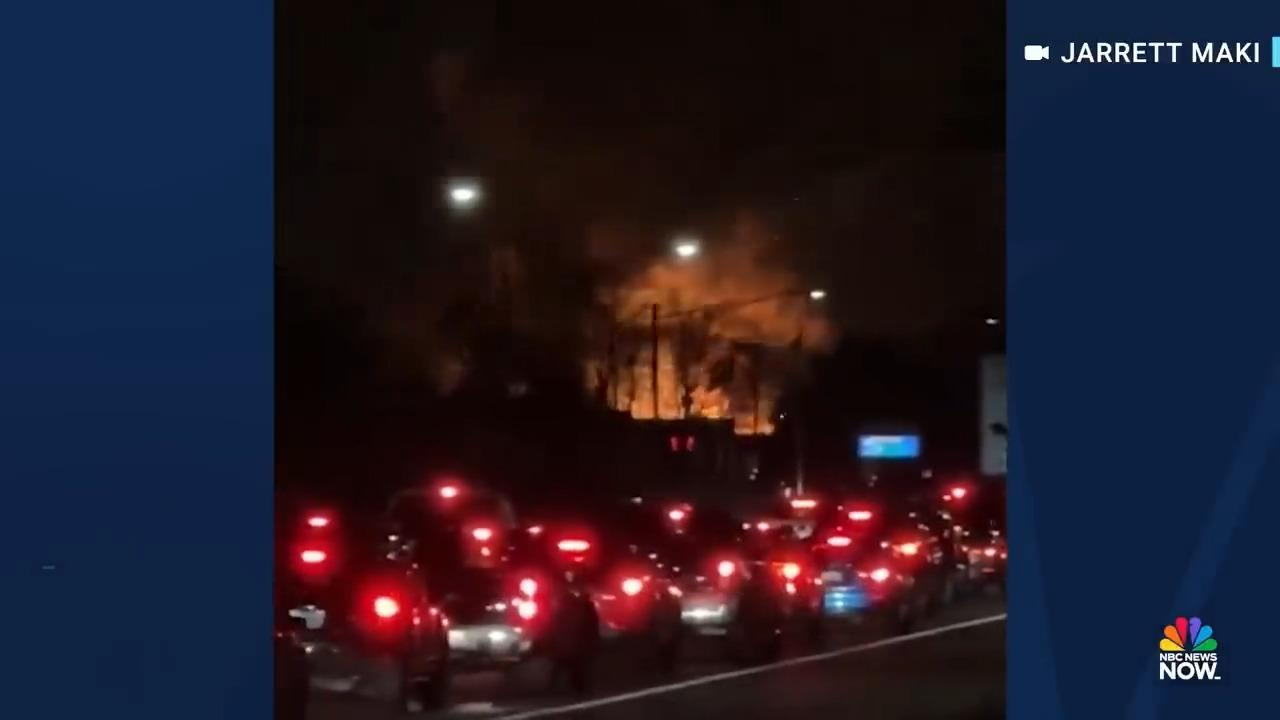fire: (619, 359, 755, 421)
